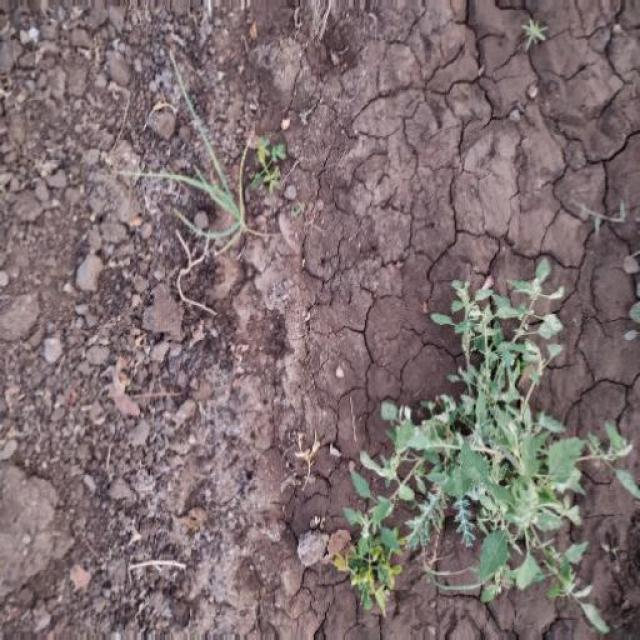weed: (341, 282, 635, 602), (75, 54, 320, 284)
